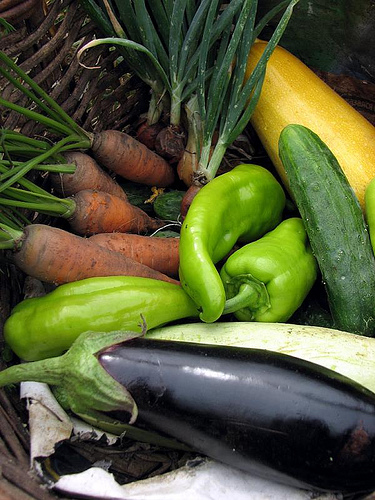cucumber: (273, 121, 373, 333)
